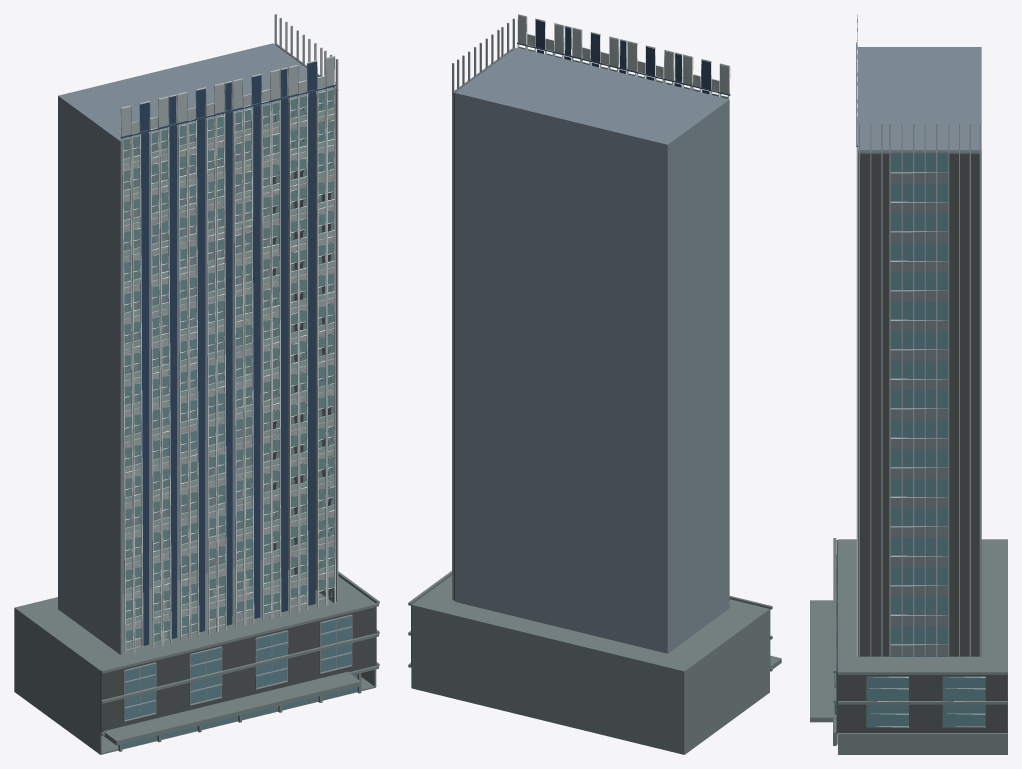
File: light.glb
3 views of the same model, side by side, from view 1: azimuth 30°, elevation 25°; view 2: azimuth 150°, elevation 25°; view 3: azimuth 270°, elevation 25° (orthographic).
Parts seen in each view (by area): view 1: ASSUMED_ENVELOPE_HIDEABLEE_ASSUMED_plain_side_back_roof, OBSERVED_D_Approx_frame, OBSERVED_D_Glazing_opaque_preview_not_optical_claim, OBSERVED_D_Observed_dark_blue_skin_material_unknown, F_VISIBLE_RIGHT_SHORTSIDE_HIDEABLE_F_crown_fold_metal, OBSERVED_D_Observed_gray_spandrel_skin_material_unknown, OBSERVED_D_Neutral_lower_appearance_NOT_wall_NOT_glass, F_VISIBLE_RIGHT_SHORTSIDE_HIDEABLE_F_frame_appearance, F_VISIBLE_RIGHT_SHORTSIDE_HIDEABLE_F_blue_window_appearance, F_VISIBLE_RIGHT_SHORTSIDE_HIDEABLE_F_stone_appearance; view 2: ASSUMED_ENVELOPE_HIDEABLEE_ASSUMED_plain_side_back_roof, F_VISIBLE_RIGHT_SHORTSIDE_HIDEABLE_F_crown_fold_metal, OBSERVED_D_Observed_gray_spandrel_skin_material_unknown, OBSERVED_D_Observed_dark_blue_skin_material_unknown, F_VISIBLE_RIGHT_SHORTSIDE_HIDEABLE_F_stone_appearance, OBSERVED_D_Approx_frame, F_VISIBLE_RIGHT_SHORTSIDE_HIDEABLE_F_frame_appearance; view 3: F_VISIBLE_RIGHT_SHORTSIDE_HIDEABLE_F_frame_appearance, F_VISIBLE_RIGHT_SHORTSIDE_HIDEABLE_F_blue_window_appearance, F_VISIBLE_RIGHT_SHORTSIDE_HIDEABLE_F_crown_fold_metal, ASSUMED_ENVELOPE_HIDEABLEE_ASSUMED_plain_side_back_roof, F_VISIBLE_RIGHT_SHORTSIDE_HIDEABLE_F_stone_appearance, F_VISIBLE_RIGHT_SHORTSIDE_HIDEABLE_F_brown_spandrel_appearan, OBSERVED_D_Approx_frame.
Part boxes in pixels (box(x1,y1,x2,y2)): ASSUMED_ENVELOPE_HIDEABLEE_ASSUMED_plain_side_back_roof: box(58, 43, 335, 654); OBSERVED_D_Approx_frame: box(120, 56, 335, 654); OBSERVED_D_Glazing_opaque_preview_not_optical_claim: box(123, 89, 334, 641); OBSERVED_D_Observed_dark_blue_skin_material_unknown: box(120, 61, 336, 645); F_VISIBLE_RIGHT_SHORTSIDE_HIDEABLE_F_crown_fold_metal: box(14, 44, 379, 754); OBSERVED_D_Observed_gray_spandrel_skin_material_unknown: box(121, 57, 334, 630); OBSERVED_D_Neutral_lower_appearance_NOT_wall_NOT_glass: box(123, 108, 334, 624); F_VISIBLE_RIGHT_SHORTSIDE_HIDEABLE_F_frame_appearance: box(100, 89, 376, 732); F_VISIBLE_RIGHT_SHORTSIDE_HIDEABLE_F_blue_window_appearance: box(122, 616, 357, 748); F_VISIBLE_RIGHT_SHORTSIDE_HIDEABLE_F_stone_appearance: box(124, 14, 352, 721); ASSUMED_ENVELOPE_HIDEABLEE_ASSUMED_plain_side_back_roof: box(455, 47, 729, 653); F_VISIBLE_RIGHT_SHORTSIDE_HIDEABLE_F_crown_fold_metal: box(408, 48, 781, 754); OBSERVED_D_Observed_gray_spandrel_skin_material_unknown: box(518, 15, 729, 94); OBSERVED_D_Observed_dark_blue_skin_material_unknown: box(517, 20, 730, 95); F_VISIBLE_RIGHT_SHORTSIDE_HIDEABLE_F_stone_appearance: box(452, 18, 514, 600); OBSERVED_D_Approx_frame: box(517, 14, 730, 98); F_VISIBLE_RIGHT_SHORTSIDE_HIDEABLE_F_frame_appearance: box(411, 93, 770, 670); F_VISIBLE_RIGHT_SHORTSIDE_HIDEABLE_F_frame_appearance: box(836, 154, 1007, 733); F_VISIBLE_RIGHT_SHORTSIDE_HIDEABLE_F_blue_window_appearance: box(835, 154, 985, 744); F_VISIBLE_RIGHT_SHORTSIDE_HIDEABLE_F_crown_fold_metal: box(810, 151, 1007, 754); ASSUMED_ENVELOPE_HIDEABLEE_ASSUMED_plain_side_back_roof: box(858, 47, 981, 656); F_VISIBLE_RIGHT_SHORTSIDE_HIDEABLE_F_stone_appearance: box(834, 122, 985, 727); F_VISIBLE_RIGHT_SHORTSIDE_HIDEABLE_F_brown_spandrel_appearan: box(890, 172, 948, 655); OBSERVED_D_Approx_frame: box(856, 14, 857, 656).
Bounding box in the file's own units: 20.82 × 44.99 × 12.94.
